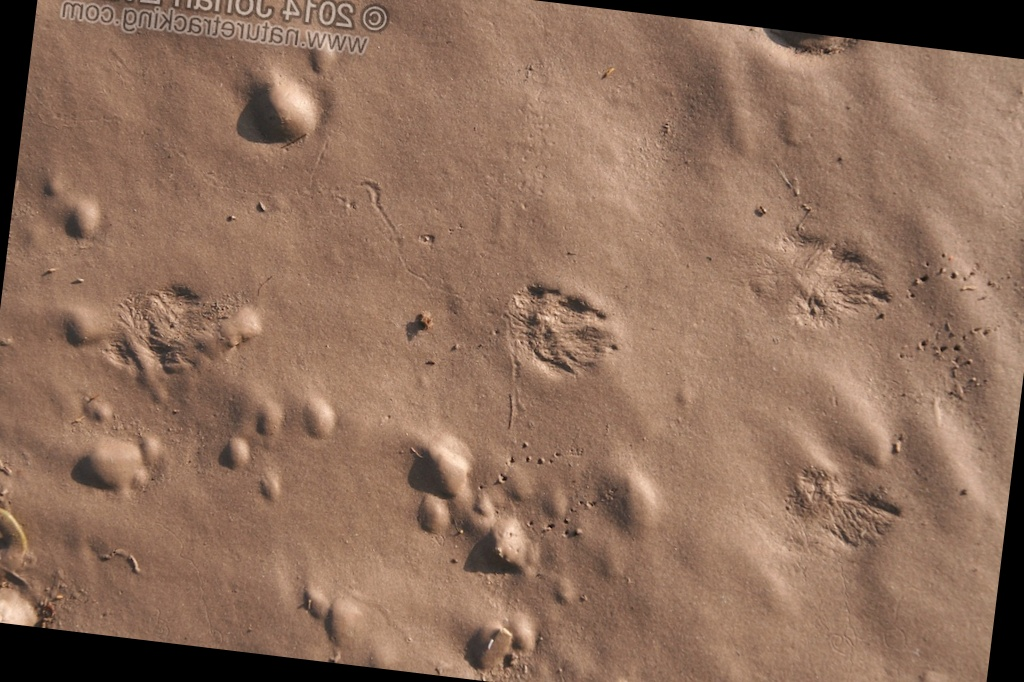rabbit: (469, 266, 656, 397)
